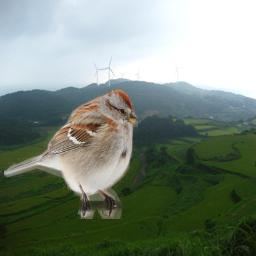Sparrow: (4, 89, 138, 219)
